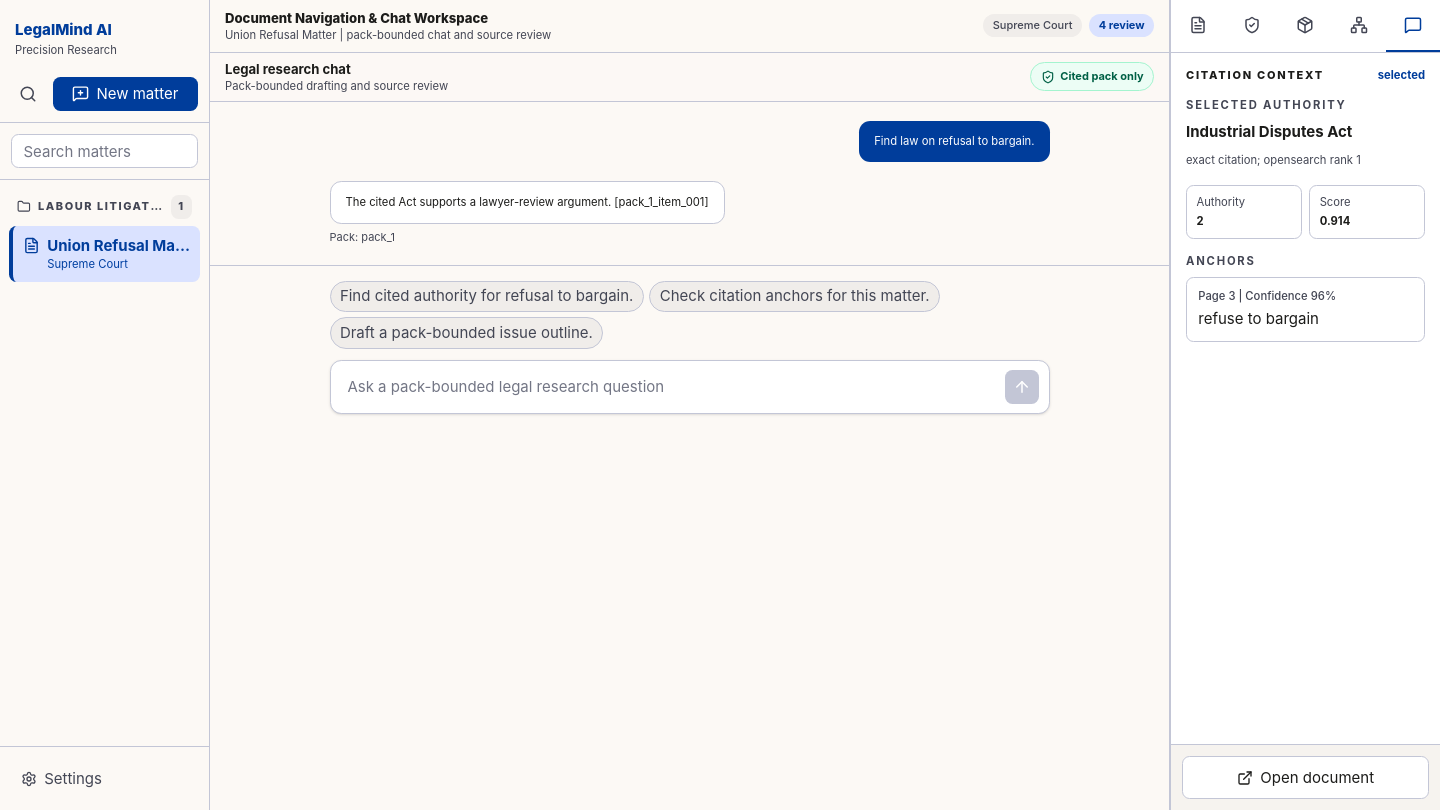
Scenario: CaseWorkspace › records review decisions from the review workspace
This screenshot has width=1440, height=810.
Step 1. Click the button named "Reviews" → (1252, 26), box x1=1225 y1=0 x2=1279 y2=52
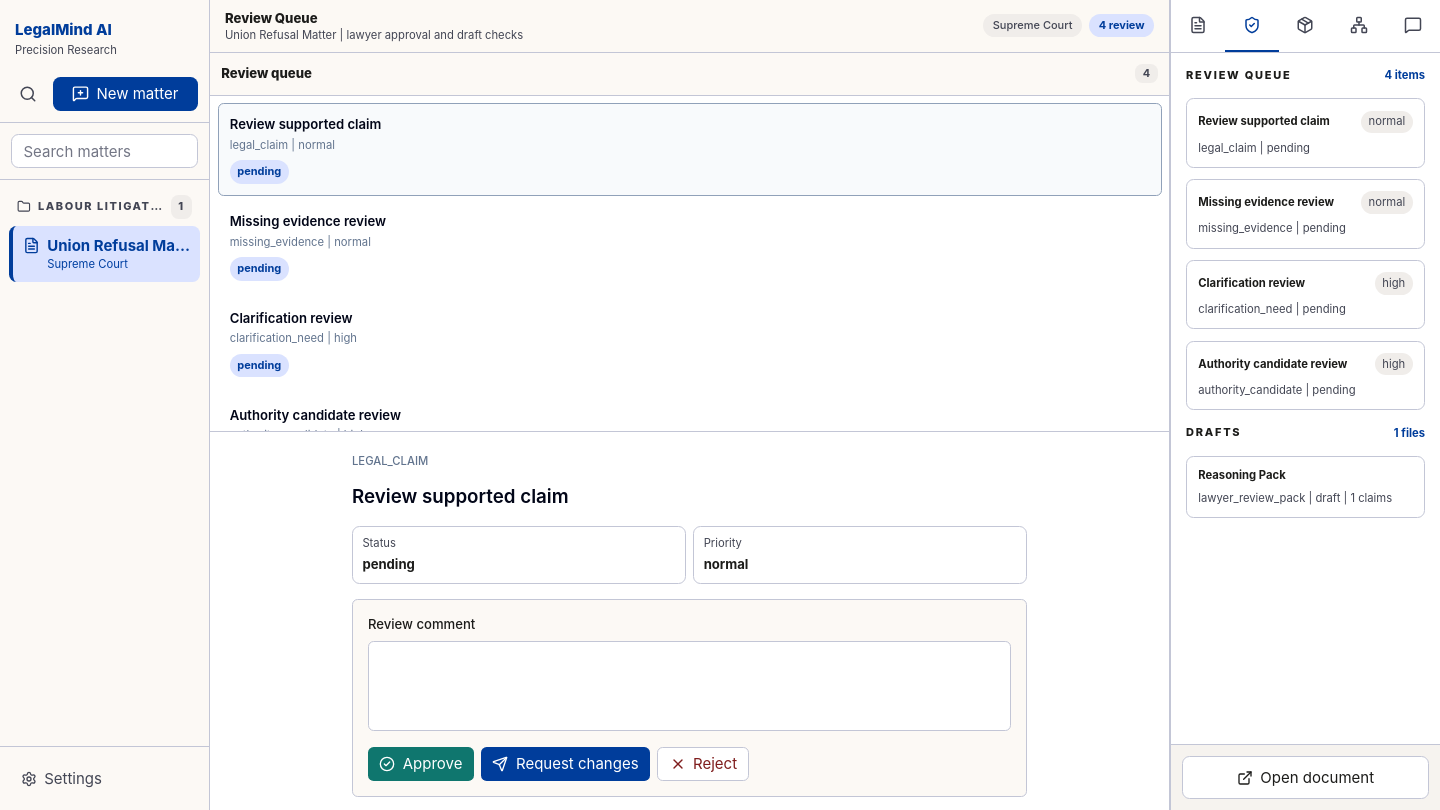
Step 2. Click the button "Approve" → (421, 764), box x1=368 y1=747 x2=474 y2=781
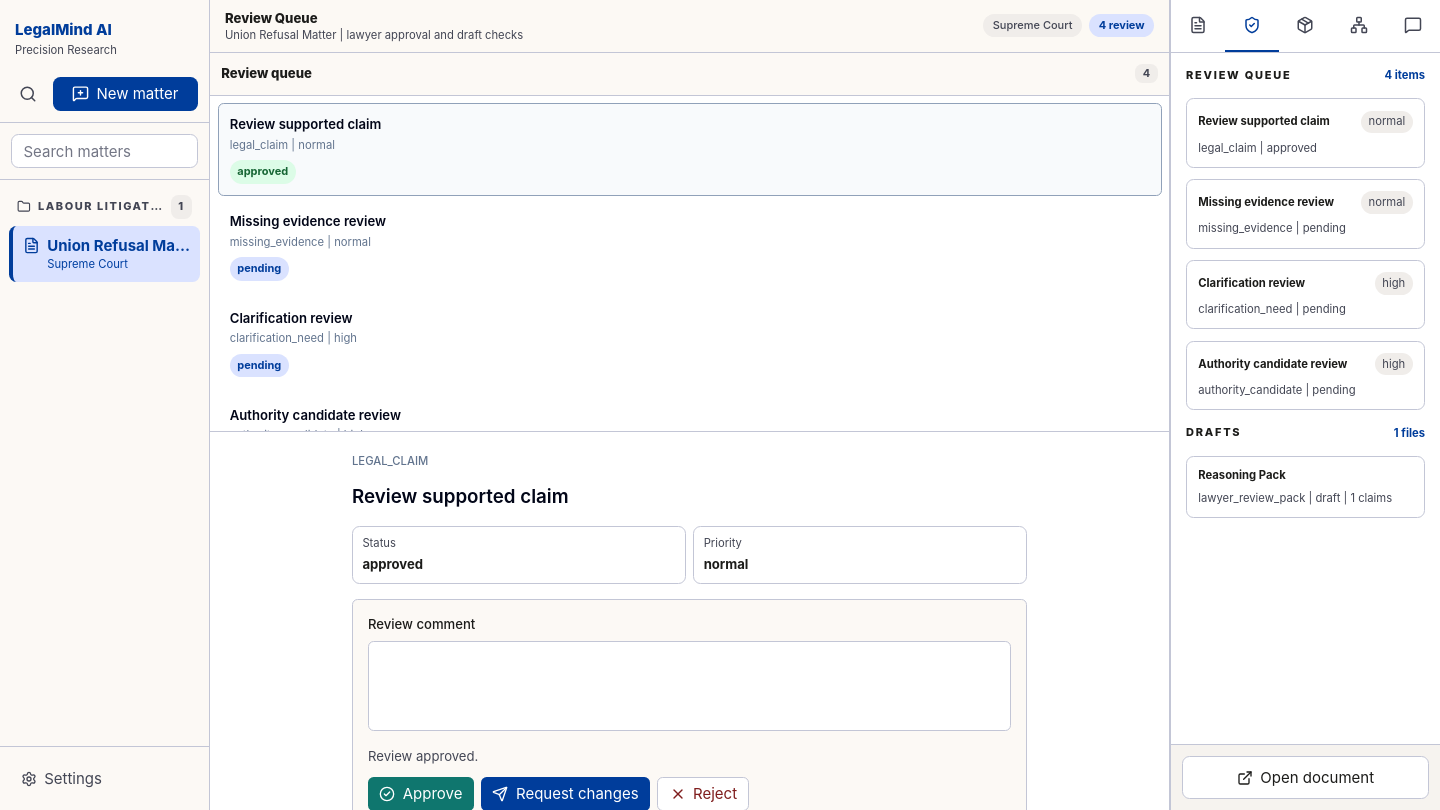
expect the text "Review approved." is shown: met, box x1=368 y1=748 x2=478 y2=764
